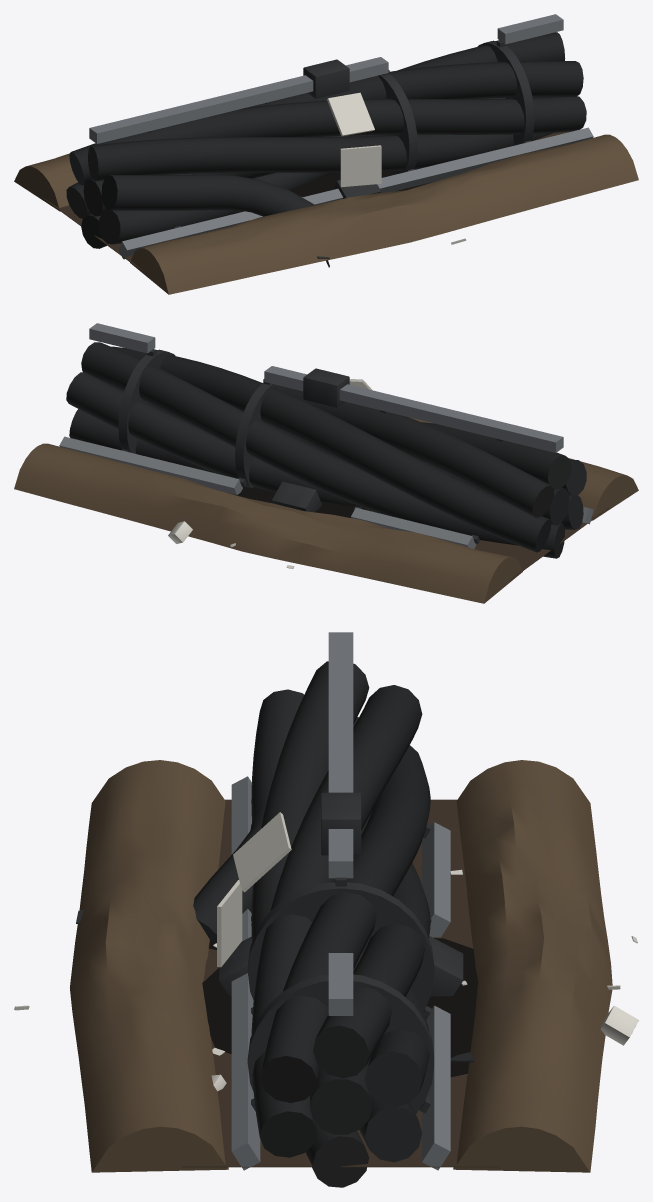
The model's file is tether-segment-torn.glb.
3 renders of one model, top to bottom at view 1: azimuth 30°, elevation 25°; view 2: azimuth 150°, elevation 25°; view 3: azimuth 270°, elevation 25°, orthographic. The views are drawn at different scales.
Visible parts, largest first — view 1: Piece_lod0; view 2: Piece_lod0; view 3: Piece_lod0.
Part boxes in pixels (bbox=[...]): Piece_lod0: bbox=[14, 14, 638, 294]; Piece_lod0: bbox=[14, 323, 638, 603]; Piece_lod0: bbox=[14, 632, 638, 1187].
Size of what is drawn, in the model's own units: 60.86 by 22.15 by 43.22.
